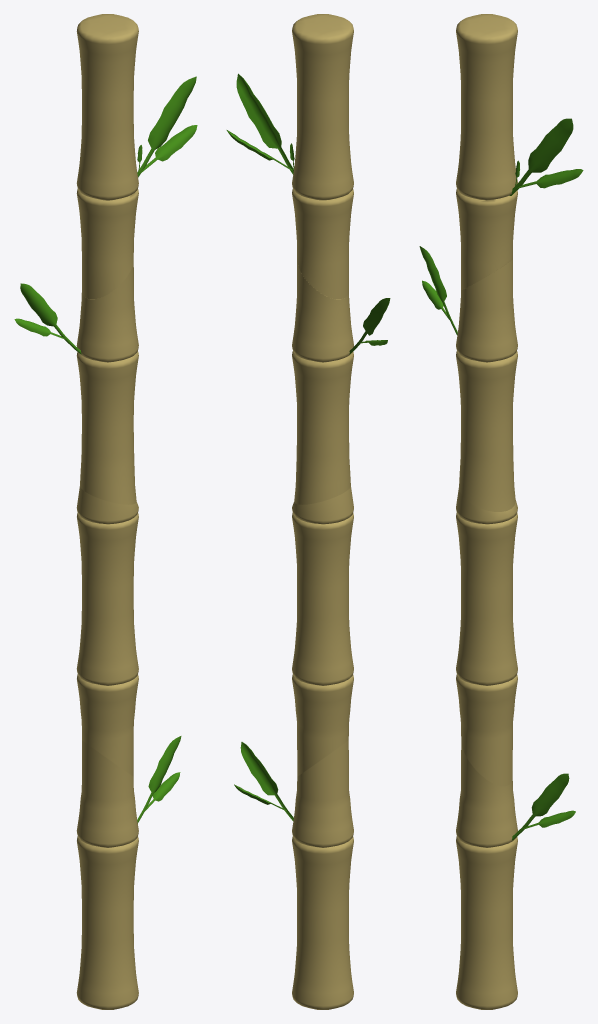
The model's file is Mesh_Bamboo.fbx.
The picture shows the model from 3 angles, left to right: view 1: azimuth 30°, elevation 25°; view 2: azimuth 150°, elevation 25°; view 3: azimuth 330°, elevation 25°; orthographic projection.
Visible parts, largest first — view 1: Up_Bambu, Down_Bambu, Middle_Bambu, Middle_Up_Bambu; view 2: Up_Bambu, Down_Bambu, Middle_Bambu, Middle_Up_Bambu; view 3: Up_Bambu, Middle_Bambu, Down_Bambu, Middle_Up_Bambu.
Boxes of the visible parts, left/top/right/bottom form: Up_Bambu: left=76, top=14, right=197, bottom=299; Down_Bambu: left=76, top=736, right=181, bottom=1009; Middle_Bambu: left=76, top=486, right=138, bottom=776; Middle_Up_Bambu: left=14, top=261, right=138, bottom=504; Up_Bambu: left=226, top=14, right=353, bottom=299; Down_Bambu: left=234, top=740, right=353, bottom=1009; Middle_Bambu: left=292, top=486, right=353, bottom=776; Middle_Up_Bambu: left=292, top=260, right=390, bottom=504; Up_Bambu: left=456, top=14, right=583, bottom=289; Middle_Bambu: left=456, top=487, right=517, bottom=786; Down_Bambu: left=456, top=742, right=575, bottom=1009; Middle_Up_Bambu: left=419, top=246, right=517, bottom=511.
Bounding box in the file's own units: 51.03 × 276 × 15.95.
